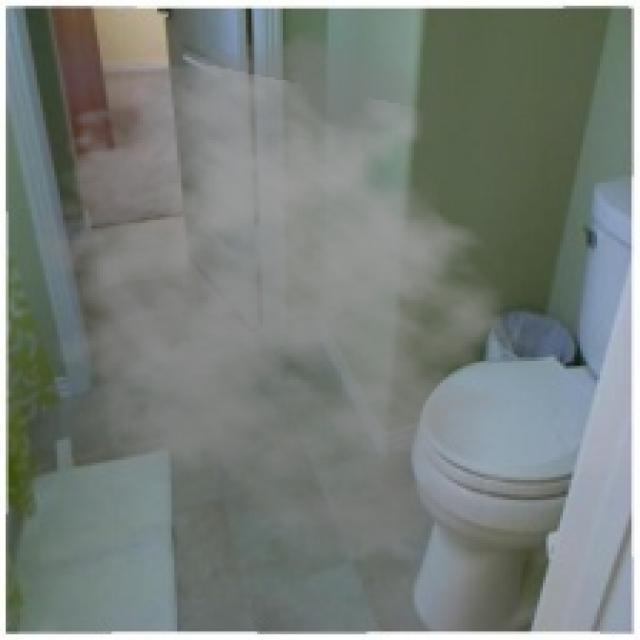Smoke: (11, 22, 558, 568)
